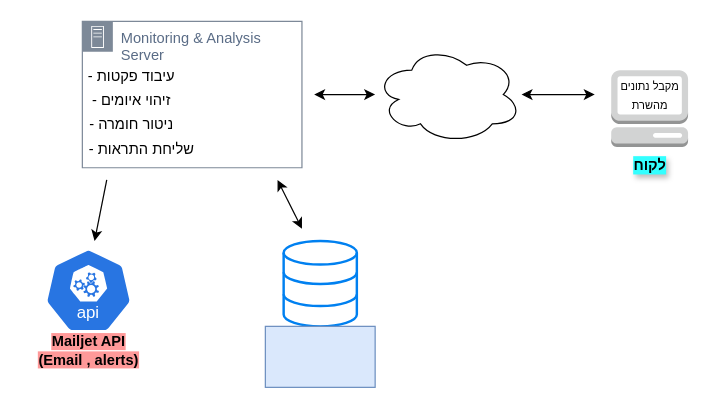
The diagram is 712 pixels wide and 409 high, and some of its shapes have lost their labels. Here are the shapes that lost their labels. From the top down, the centre of each, then its label:
the point at 448,94: Internet
the point at 319,356: Database MongoDB
